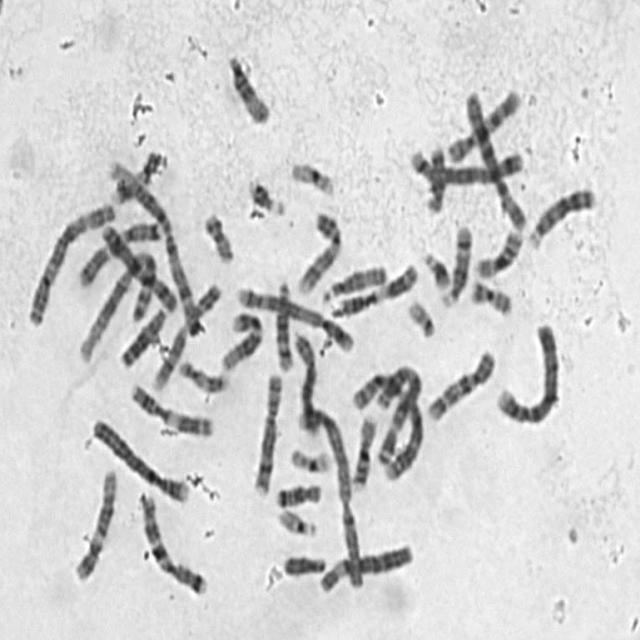A1: (102, 151, 204, 332), (73, 241, 166, 365)
A2: (289, 396, 365, 590), (346, 362, 428, 483)
A3: (22, 194, 118, 328), (371, 355, 426, 476)
B4: (86, 410, 191, 505), (492, 314, 562, 426)
B5: (231, 278, 357, 354), (404, 140, 526, 188)
C10: (442, 81, 523, 166), (422, 342, 499, 424)
C11: (324, 254, 422, 319), (125, 374, 216, 438)
C12: (68, 461, 119, 584), (217, 302, 266, 372)
C6: (459, 85, 528, 232), (315, 535, 416, 595)
C7: (133, 484, 210, 598), (75, 215, 168, 289)
C8: (248, 364, 285, 498), (288, 322, 322, 438)
C9: (147, 275, 223, 391), (292, 203, 345, 296)
D13: (524, 177, 599, 251), (114, 300, 170, 370)
D14: (436, 216, 474, 309), (270, 271, 296, 374)
D15: (222, 46, 273, 127), (317, 256, 390, 304)
E16: (470, 220, 526, 281), (347, 407, 380, 491)
E17: (104, 142, 168, 206), (173, 352, 232, 394)
E18: (421, 136, 449, 216), (271, 476, 325, 510)
F19: (286, 152, 337, 198), (284, 440, 334, 476)
F20: (198, 204, 236, 265), (466, 270, 514, 316)
G21: (244, 169, 289, 218), (418, 244, 454, 292)
G22: (272, 501, 321, 538), (402, 290, 438, 340)
X: (96, 217, 180, 316)
Y: (279, 546, 328, 578)
